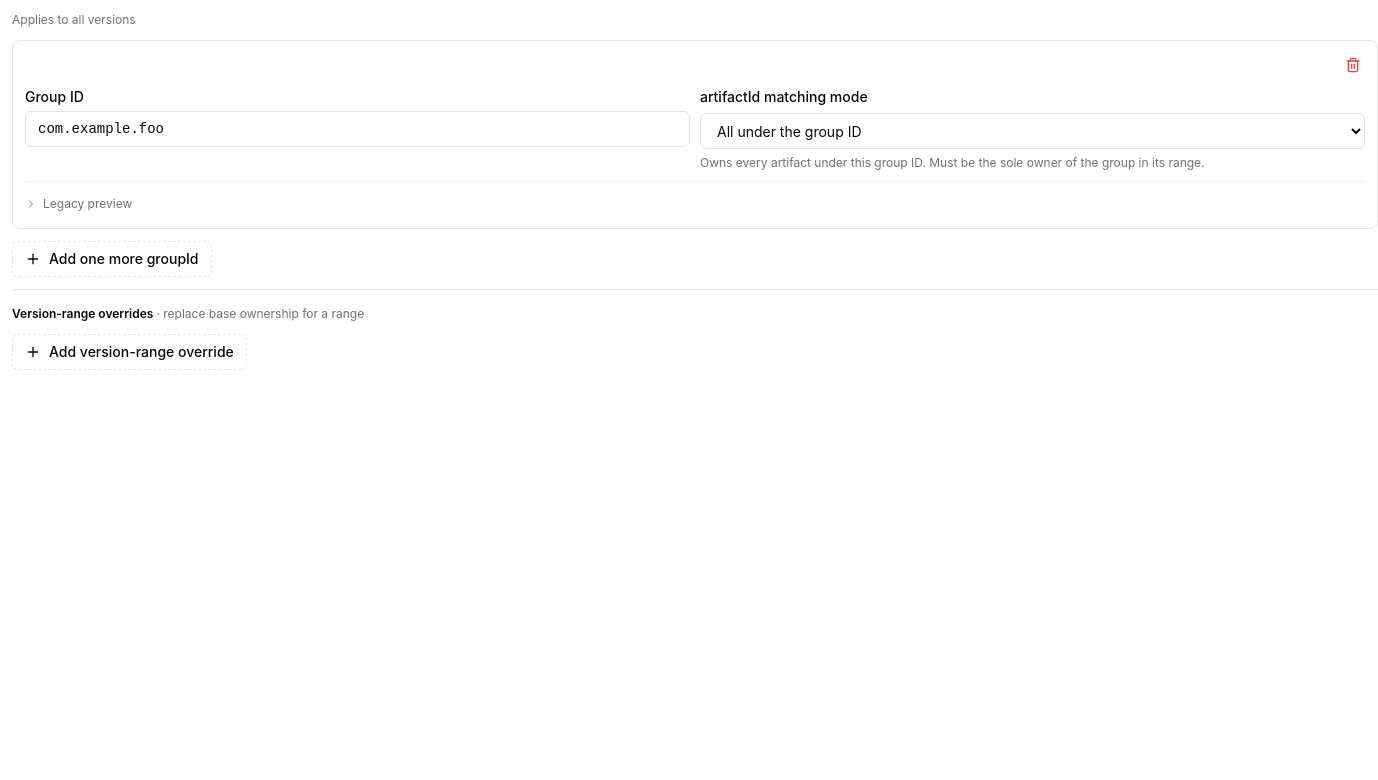
Test case: ArtifactOwnershipEditor › "Add one more groupId" appends an empty base mapping (one Group ID per row)
The image size is (1378, 780).
Step 1. Click the button "Add one more groupId" → (112, 259), box [12,241,212,277]
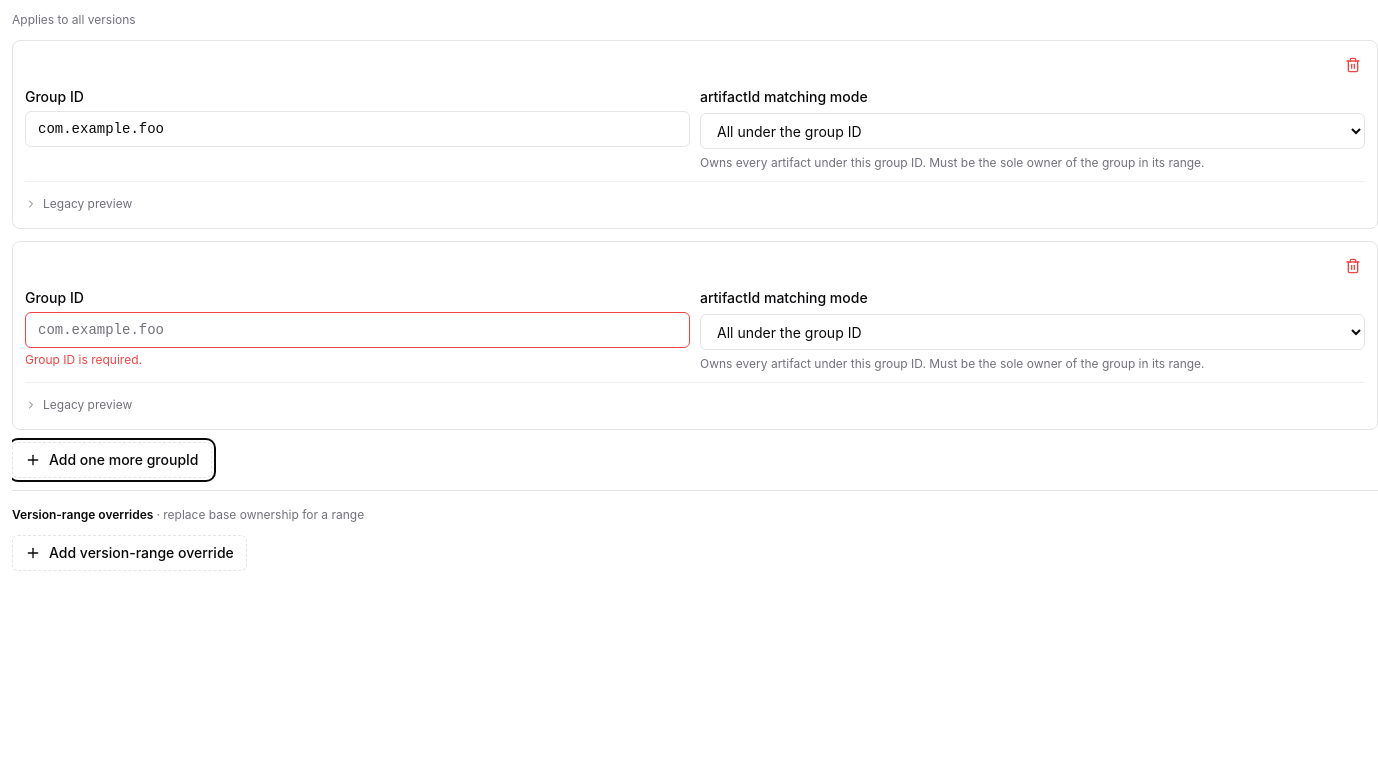
Check: the number of fields labelled "Group ID" is 2, box [25,111,690,147]; [25,312,690,348]
